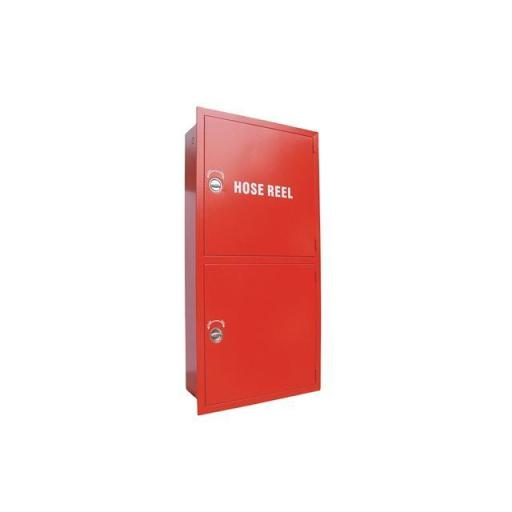fire_hose: (183, 102, 327, 417)
